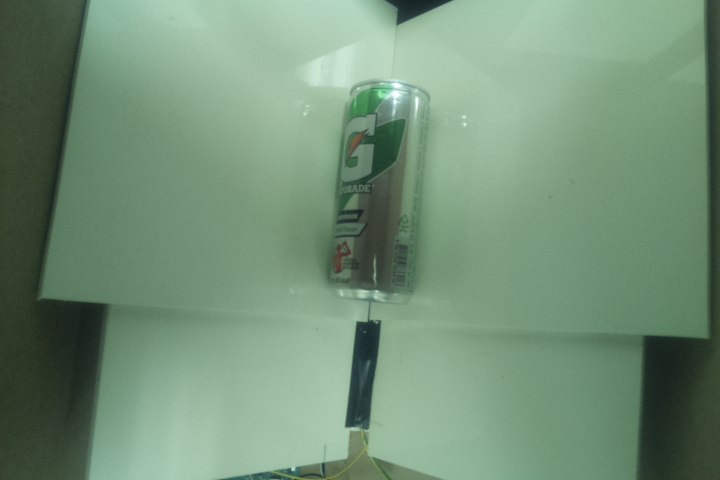can: (327, 77, 437, 307)
